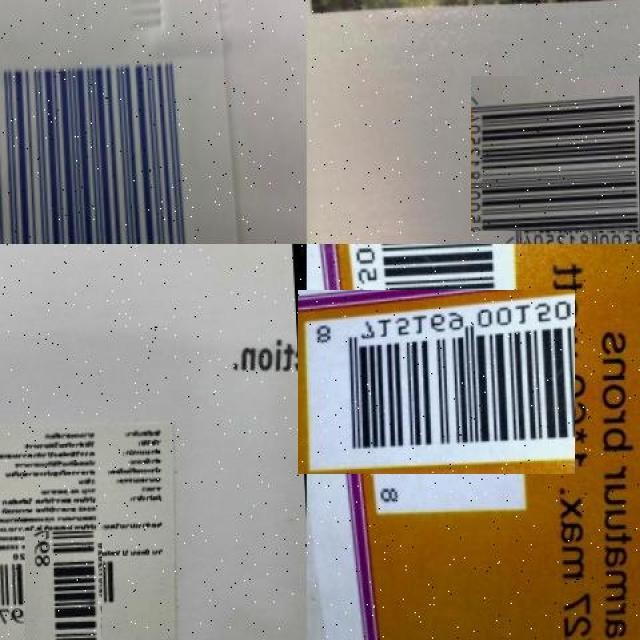Barcode: (321, 267, 552, 498), (0, 52, 223, 244), (477, 70, 640, 238), (12, 544, 114, 640)
